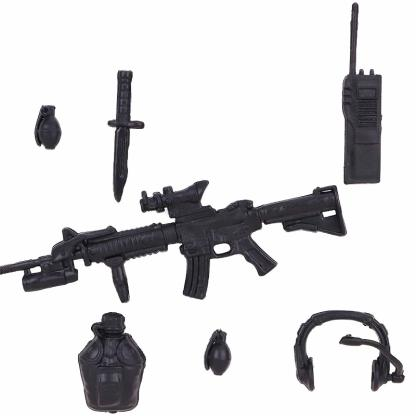Grenade: (202, 327, 233, 378), (32, 103, 62, 151)
Gun: (0, 178, 349, 304)
Knife: (107, 69, 145, 203)
